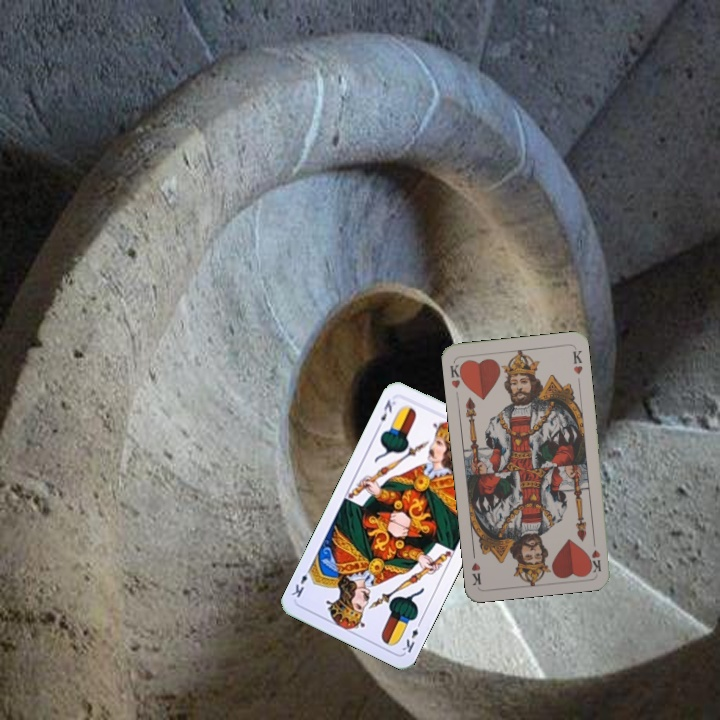EK: (398, 616, 424, 655), (373, 395, 398, 431)
HK: (586, 533, 603, 574), (446, 360, 467, 390)
